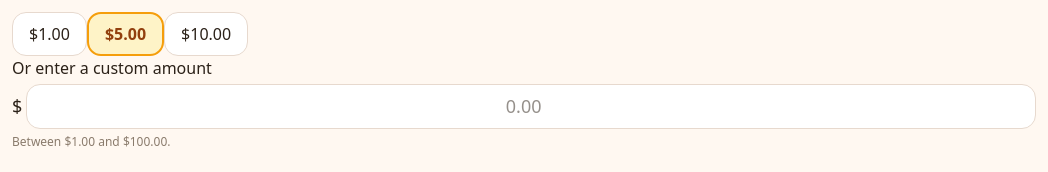
Scenario: TipAmountSelector › shows error for custom amount below min
The image size is (1048, 172).
Type "0.50" into the number field labelled "Or enter a custom amount".
click(531, 106); type("0.50")  # box [26,84,1036,129]
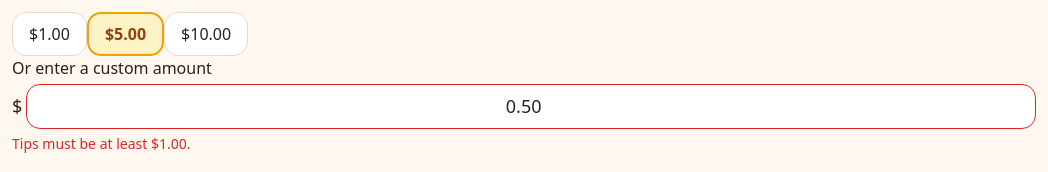
Result: the text "Tips must be at least $1.00." is shown at [12,134,190,153]
